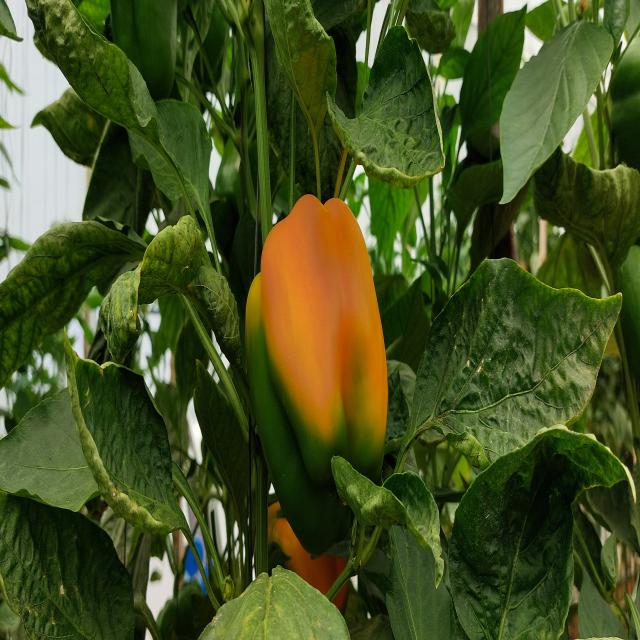GreenishYellow--Can-be-Harvested: (232, 172, 411, 536)
